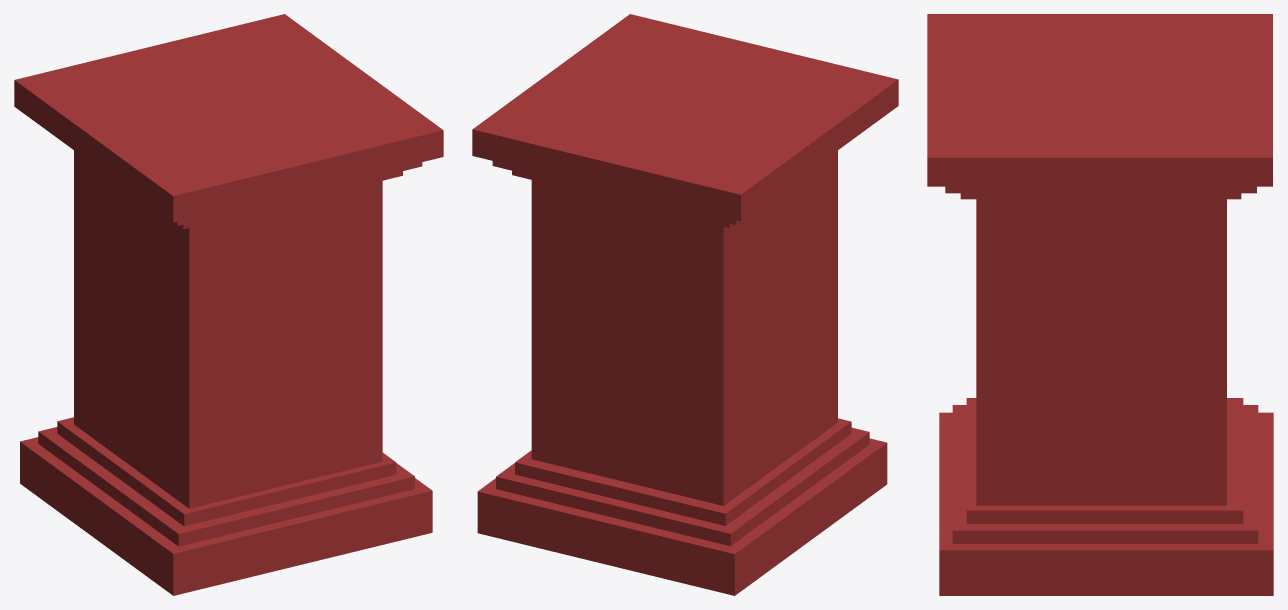
Rendered from st2_main_side_01.fbx.
The picture shows the model from 3 angles, left to right: view 1: azimuth 30°, elevation 25°; view 2: azimuth 150°, elevation 25°; view 3: azimuth 270°, elevation 25°; orthographic projection. The views are drawn at different scales.
Parts seen in each view (by area): view 1: Plane005; view 2: Plane005; view 3: Plane005.
Boxes of the visible parts, x1,y1,x2,y2 form: Plane005: (14,14,443,595); Plane005: (472,14,898,595); Plane005: (927,14,1273,595).
Size of the model in its own units: 408 by 585 by 416.
